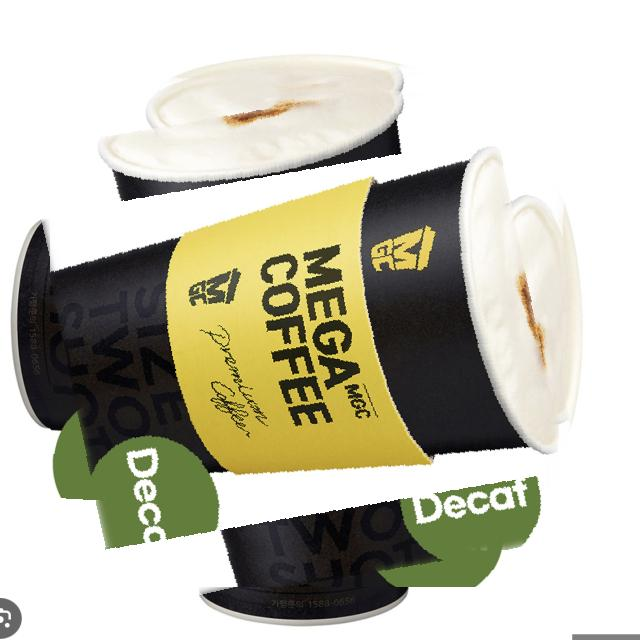non-biodegradable: (50, 70, 566, 587)
